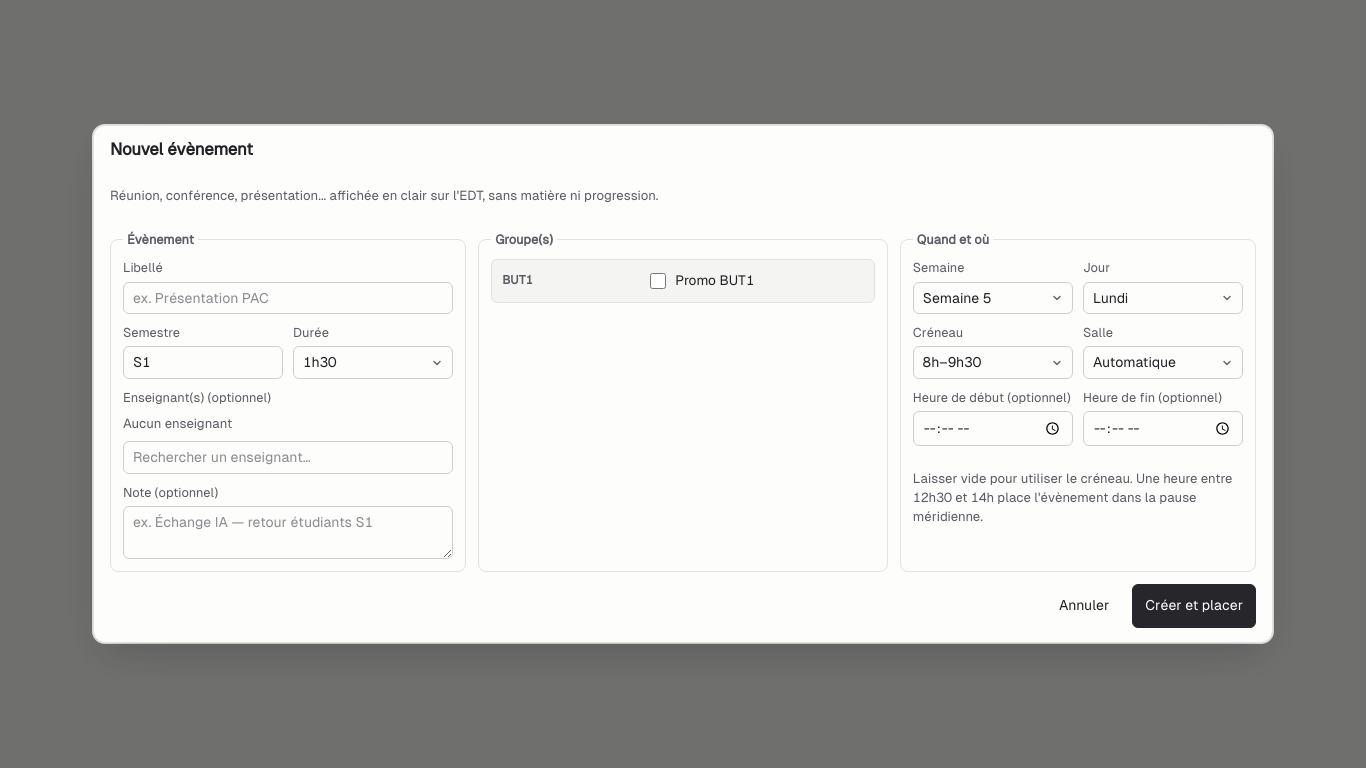
Test case: CreerEvenementModal › should refuse to submit without at least one group
Step 1. Type "Réunion" into the field with placeholder "ex. Présentation PAC" → [288, 298], box [123,282,453,314]
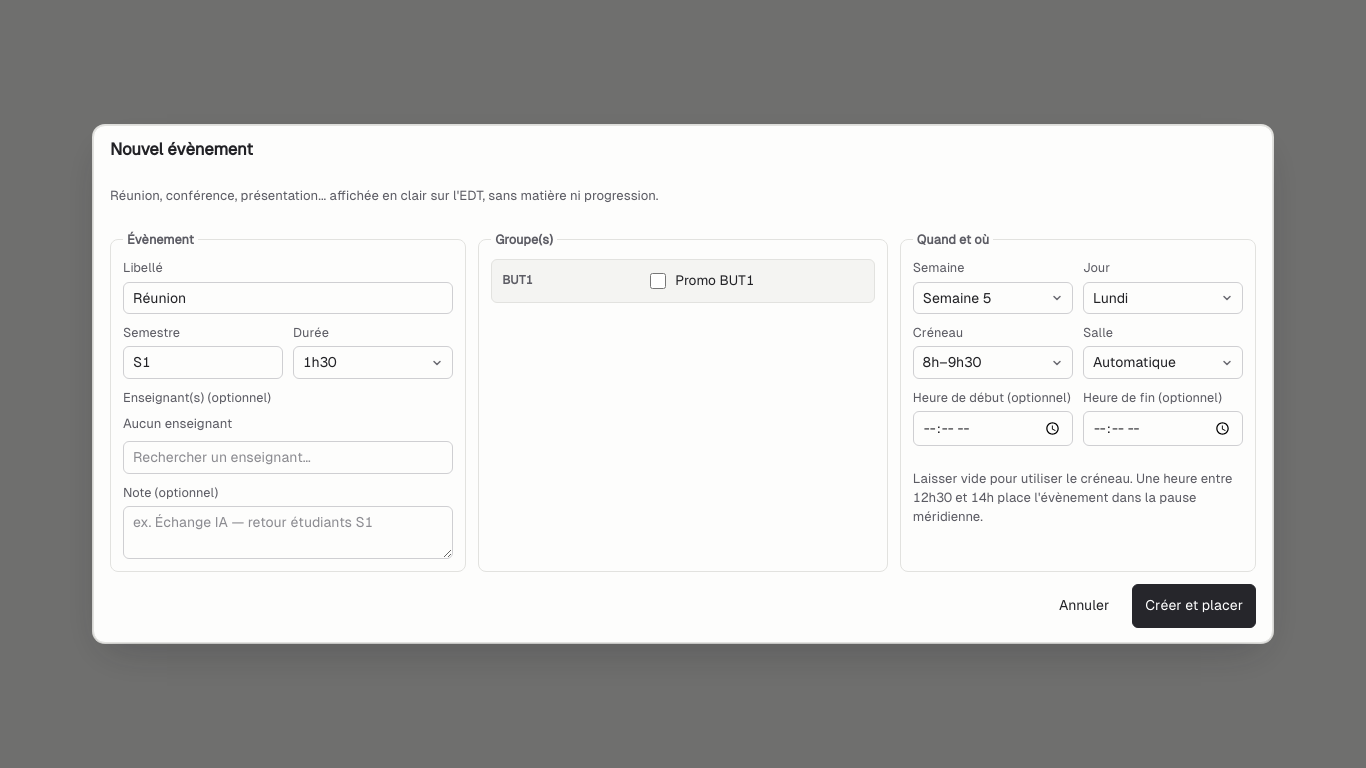
Step 2. Click the button "Créer et placer" → [1194, 606], box [1132,584,1256,628]
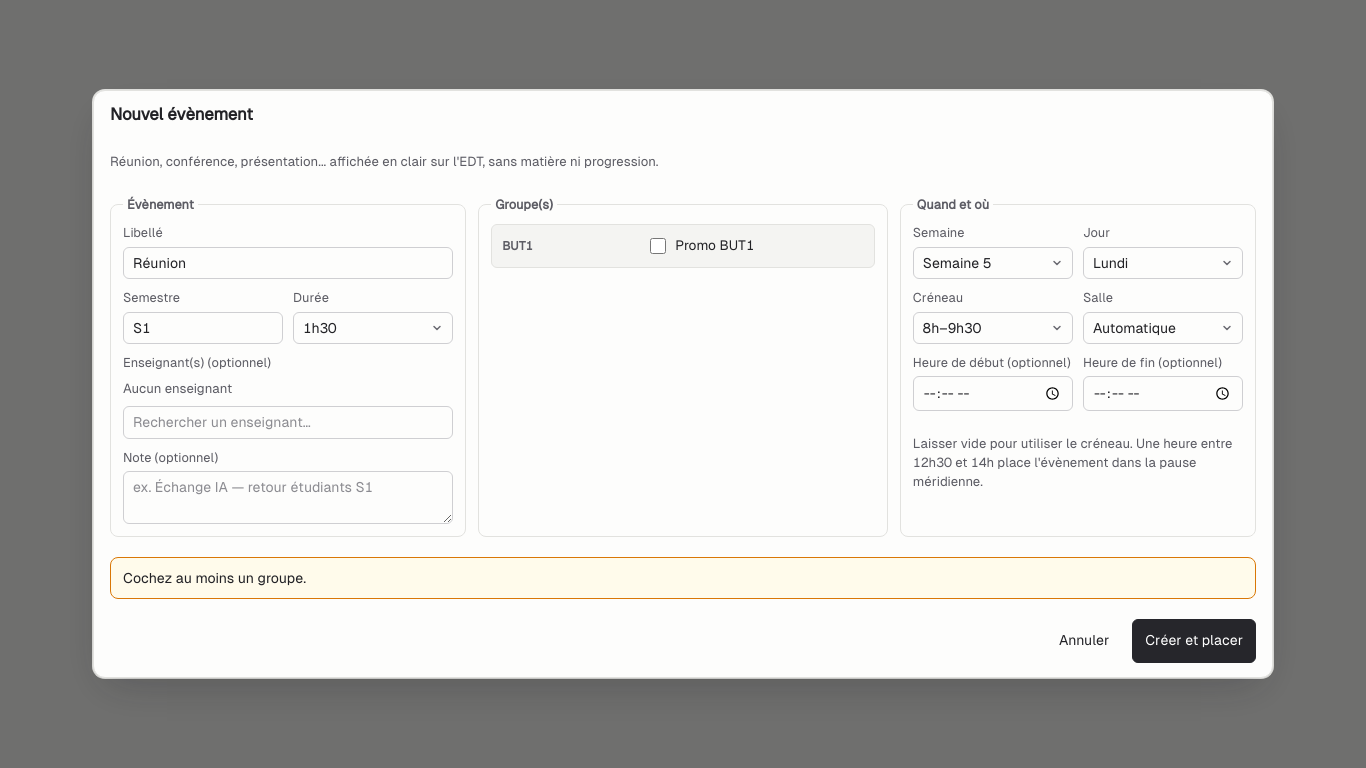
Expected: the text "Cochez au moins un groupe." is shown, [110,557,1256,598]
